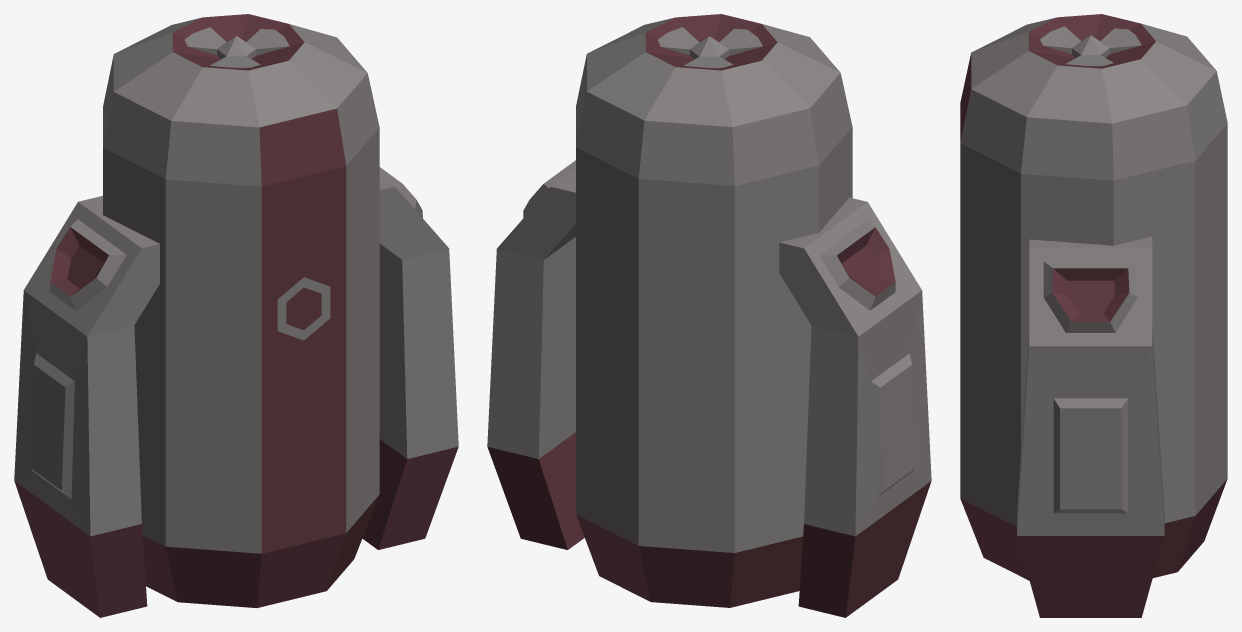
File: scifi-oxygen-generator.fbx
3 renders of one model, left to right at view 1: azimuth 30°, elevation 25°; view 2: azimuth 150°, elevation 25°; view 3: azimuth 270°, elevation 25°, orthographic. The views are drawn at different scales.
Visible parts, largest first — view 1: scifi-oxygen-generator; view 2: scifi-oxygen-generator; view 3: scifi-oxygen-generator.
Part boxes in pixels (x1,y1,x2,y2): scifi-oxygen-generator: [14, 14, 458, 617]; scifi-oxygen-generator: [487, 14, 931, 617]; scifi-oxygen-generator: [960, 14, 1227, 617].
Bounding box in the file's own units: 1.62 × 2.13 × 1.02.
